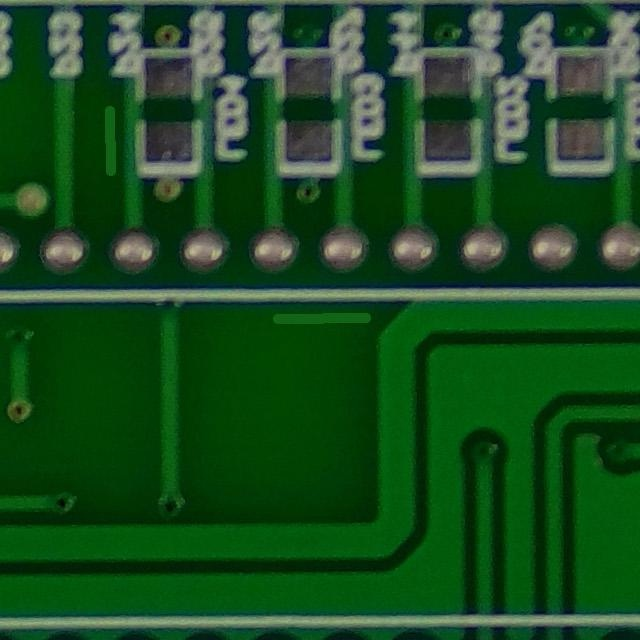spurious_copper: (257, 289, 383, 351)
